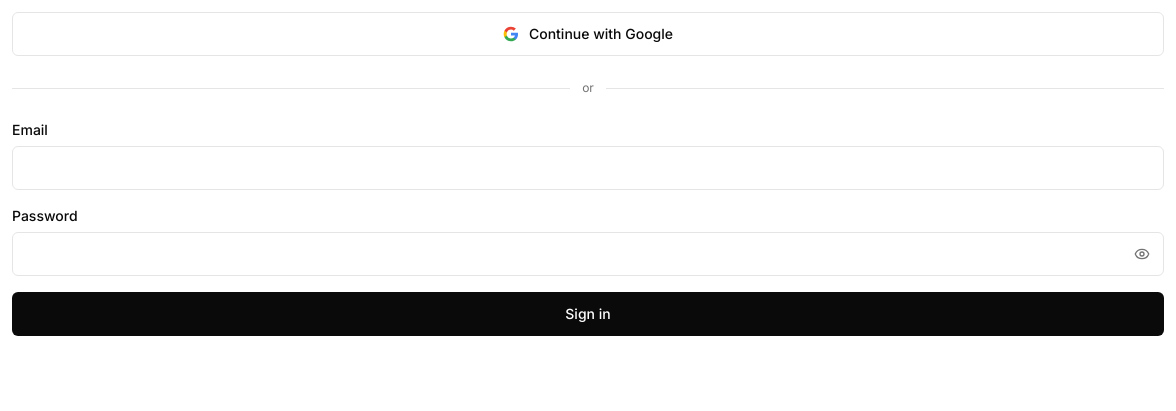
Test: SignIn › shows a plain-English error when the password is wrong
In the field labelled "Email": (588, 168) [12,146,1164,190], type "ada@example.test"
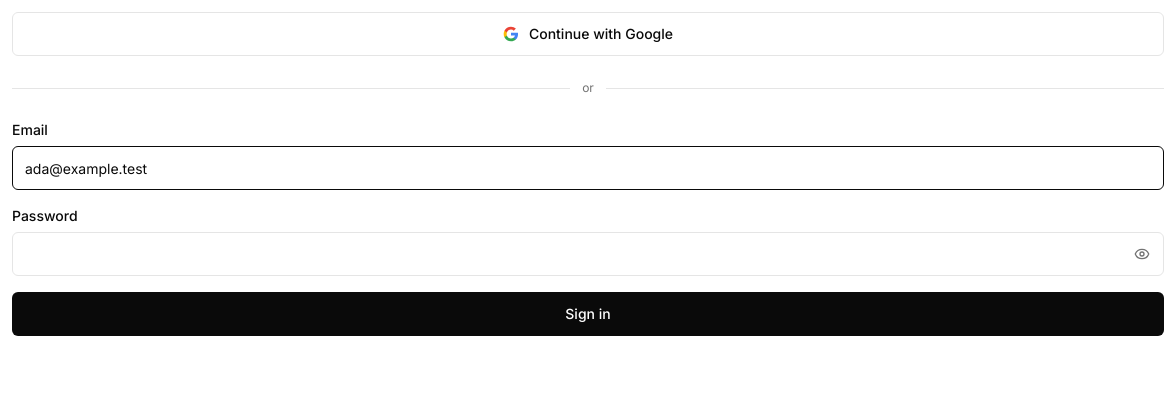
In the password field labelled "Password": (588, 254) [12,232,1164,276], type "correct horse"
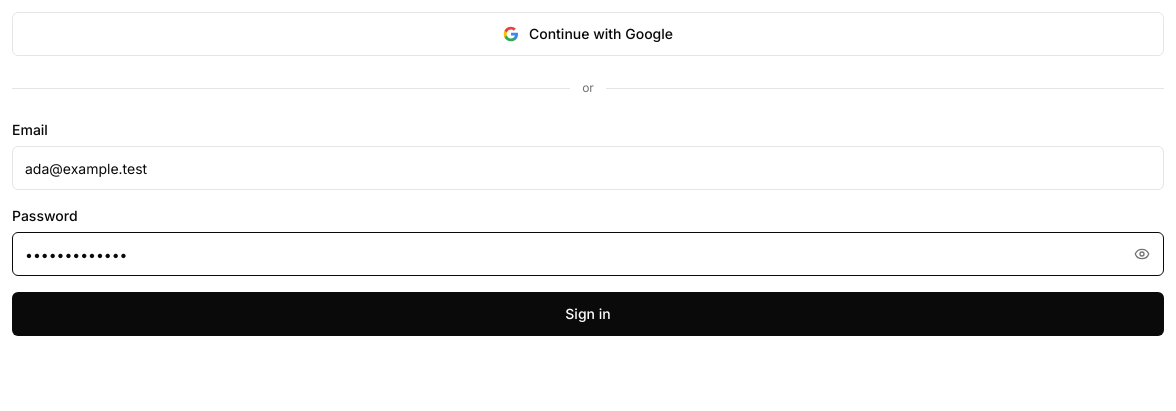
Click the button "Sign in": (588, 314) [12,292,1164,336]
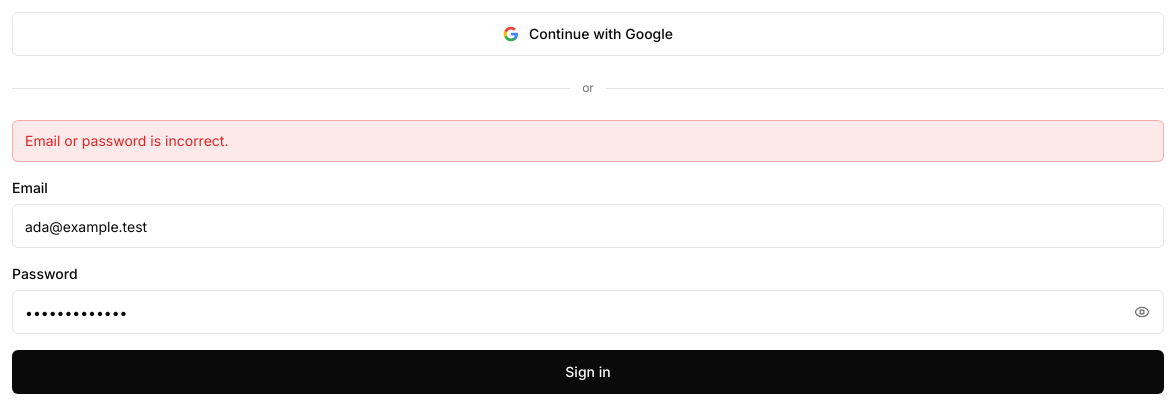
Check: the message reads "Email or password is incorrect.", box [25,132,228,149]
